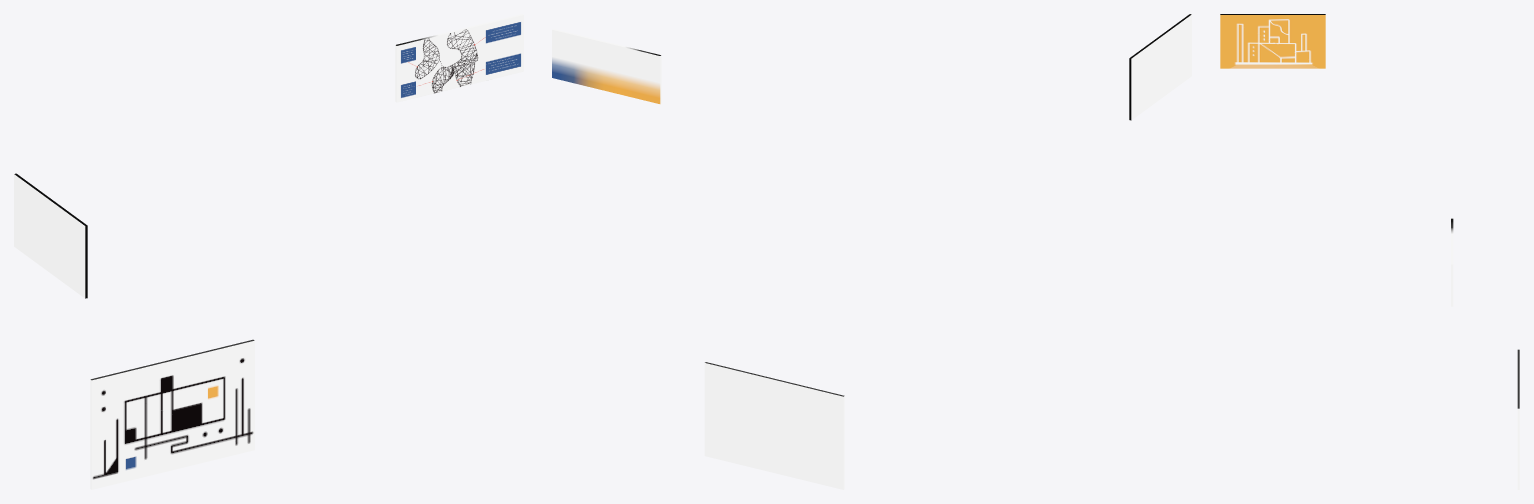
The model's file is 右学校 1.fbx.
The picture shows the model from 3 angles, left to right: view 1: azimuth 30°, elevation 25°; view 2: azimuth 150°, elevation 25°; view 3: azimuth 270°, elevation 25°; orthographic projection. The views are drawn at different scales.
Visible parts, largest first — view 1: 立方体_3_8, 立方体_2_2, 墙画; view 2: 立方体_3_8, 立方体_2_2, 墙画; view 3: 墙画, 立方体_3_8.
Boxes of the visible parts, x1,y1,x2,y2 form: 立方体_3_8: [90, 339, 254, 489]; 立方体_2_2: [395, 14, 523, 102]; 墙画: [14, 173, 87, 298]; 立方体_3_8: [704, 362, 844, 489]; 立方体_2_2: [552, 29, 661, 104]; 墙画: [1129, 14, 1191, 120]; 墙画: [1220, 14, 1325, 68]; 立方体_3_8: [1517, 349, 1519, 489].
Bounding box in the file's own units: 1275 × 945 × 750.
